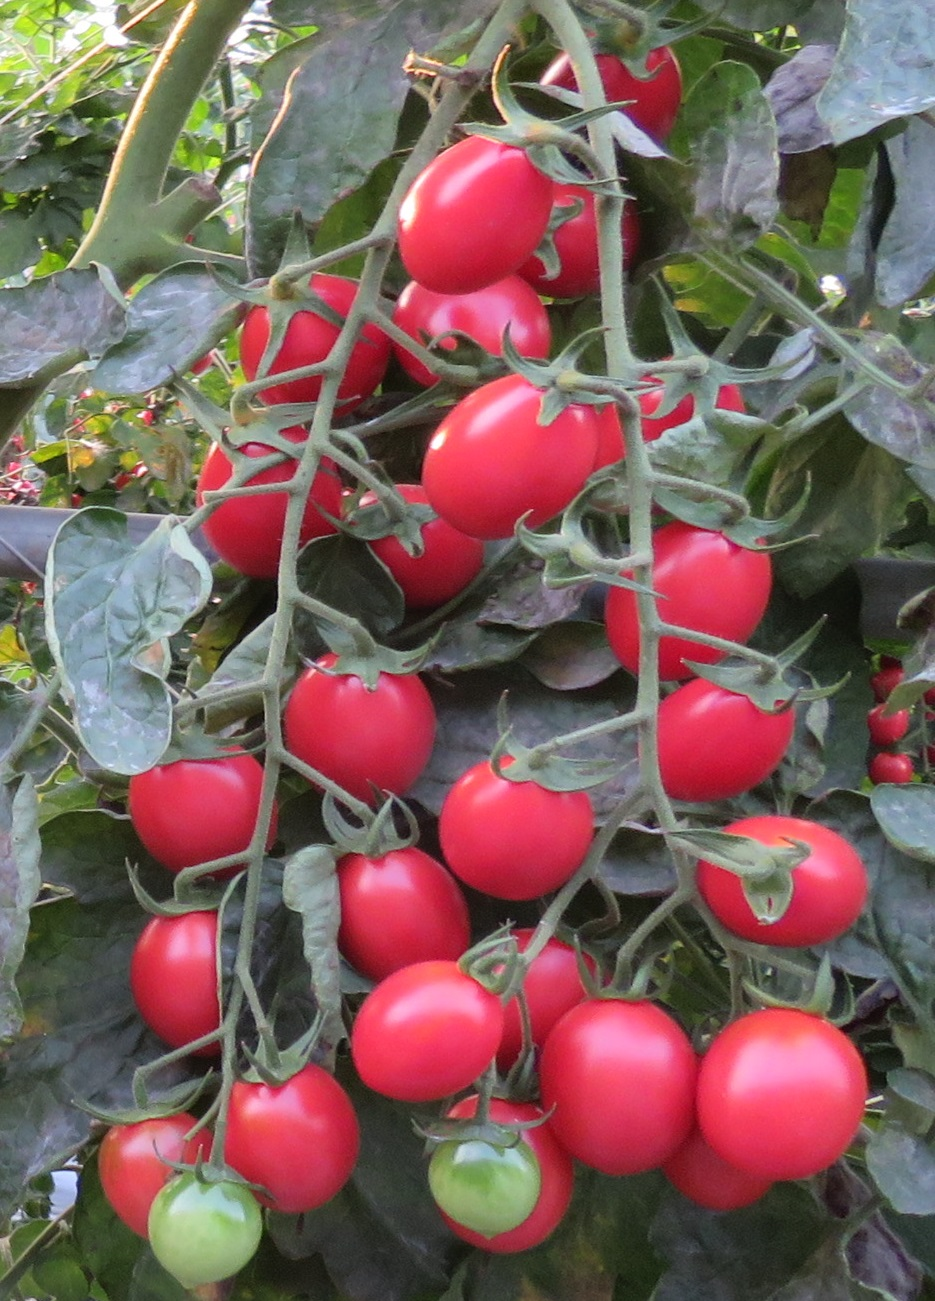green: (415, 1119, 546, 1237), (143, 1170, 266, 1288)
red: (419, 361, 619, 534), (605, 496, 789, 683), (701, 1006, 869, 1185), (542, 992, 700, 1173), (393, 122, 556, 289), (231, 251, 386, 415), (274, 650, 439, 804), (643, 661, 809, 811), (386, 270, 590, 387), (693, 814, 863, 950), (435, 749, 589, 896), (193, 420, 340, 572), (221, 1060, 363, 1216), (328, 838, 485, 970), (355, 961, 509, 1092), (474, 924, 609, 1060), (128, 747, 279, 869), (134, 895, 227, 1057), (93, 1118, 216, 1234), (359, 486, 481, 598), (549, 47, 684, 139), (866, 704, 910, 744), (872, 750, 913, 791)
